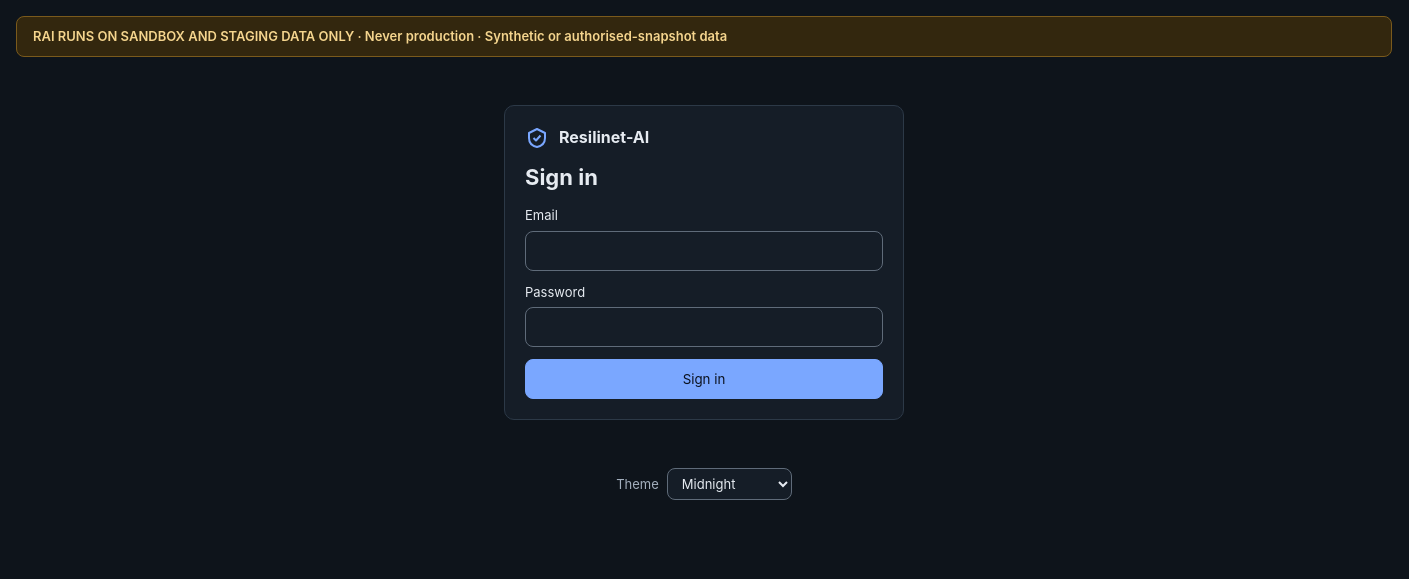
App › shows the server's sign-in error
The image size is (1409, 579).
Type "ada@example.test" into the field labelled "Email" at (704, 251), box [525,231,883,271]
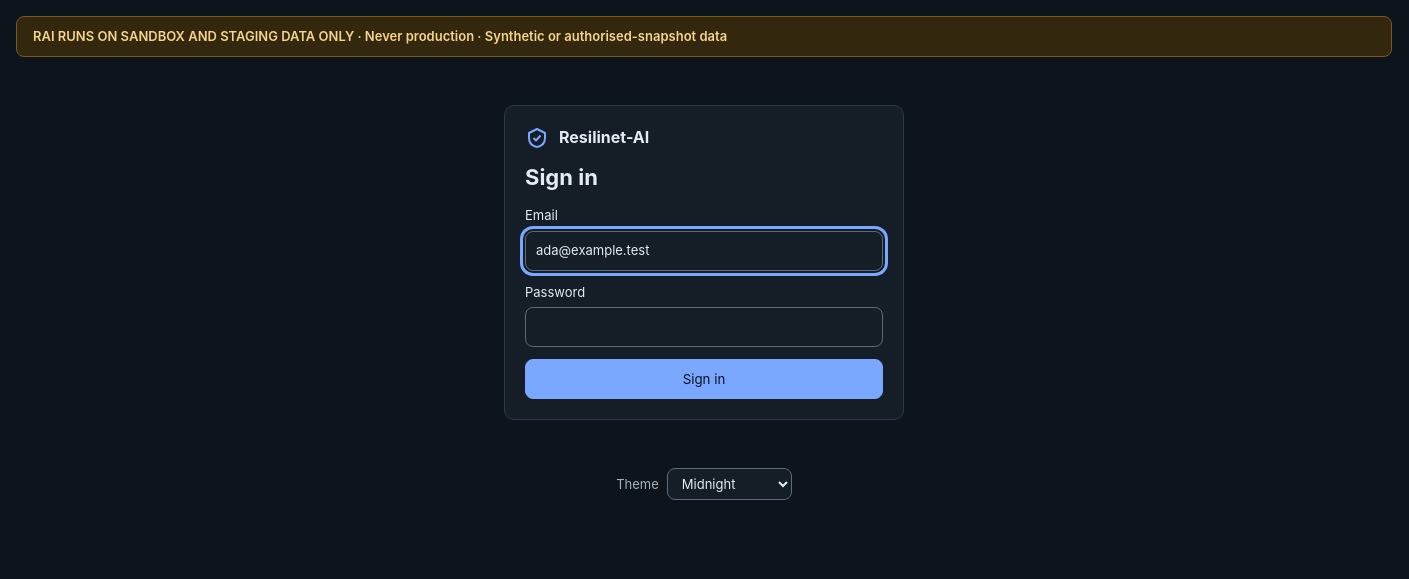
Type "pw" into the password field labelled "Password" at (704, 327), box [525,307,883,347]
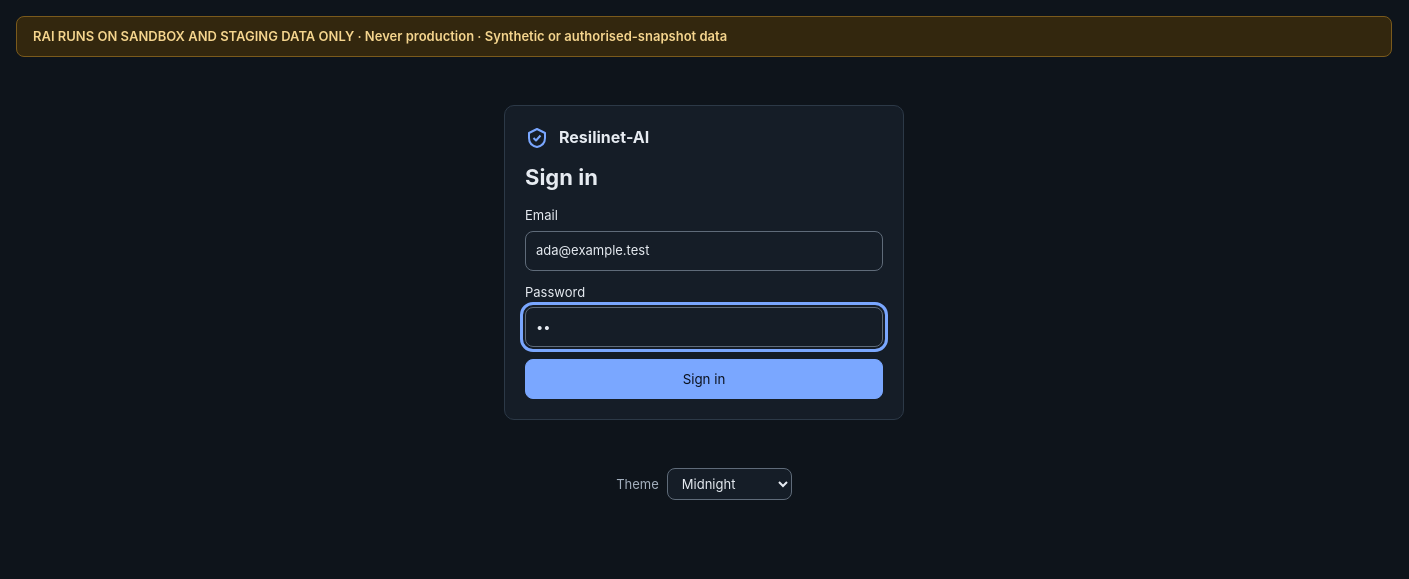
Click the button "Sign in" at (704, 379), box [525,359,883,399]
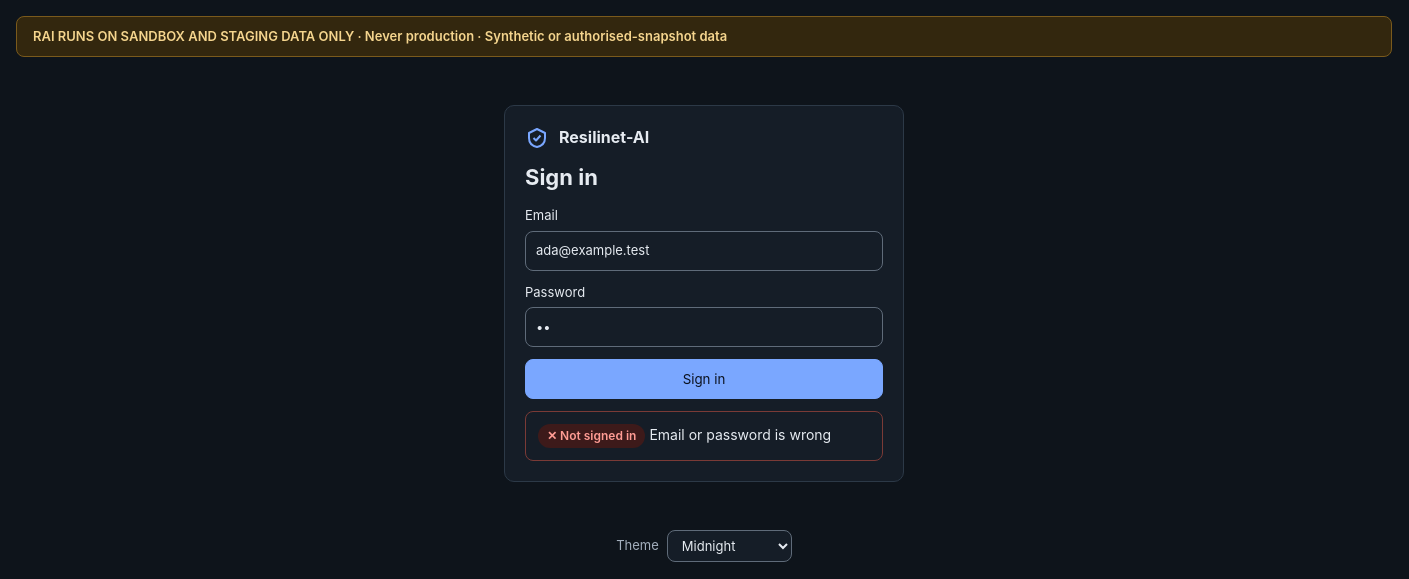
Expected: the message shows "Email or password is wrong", [649,426,831,443]
